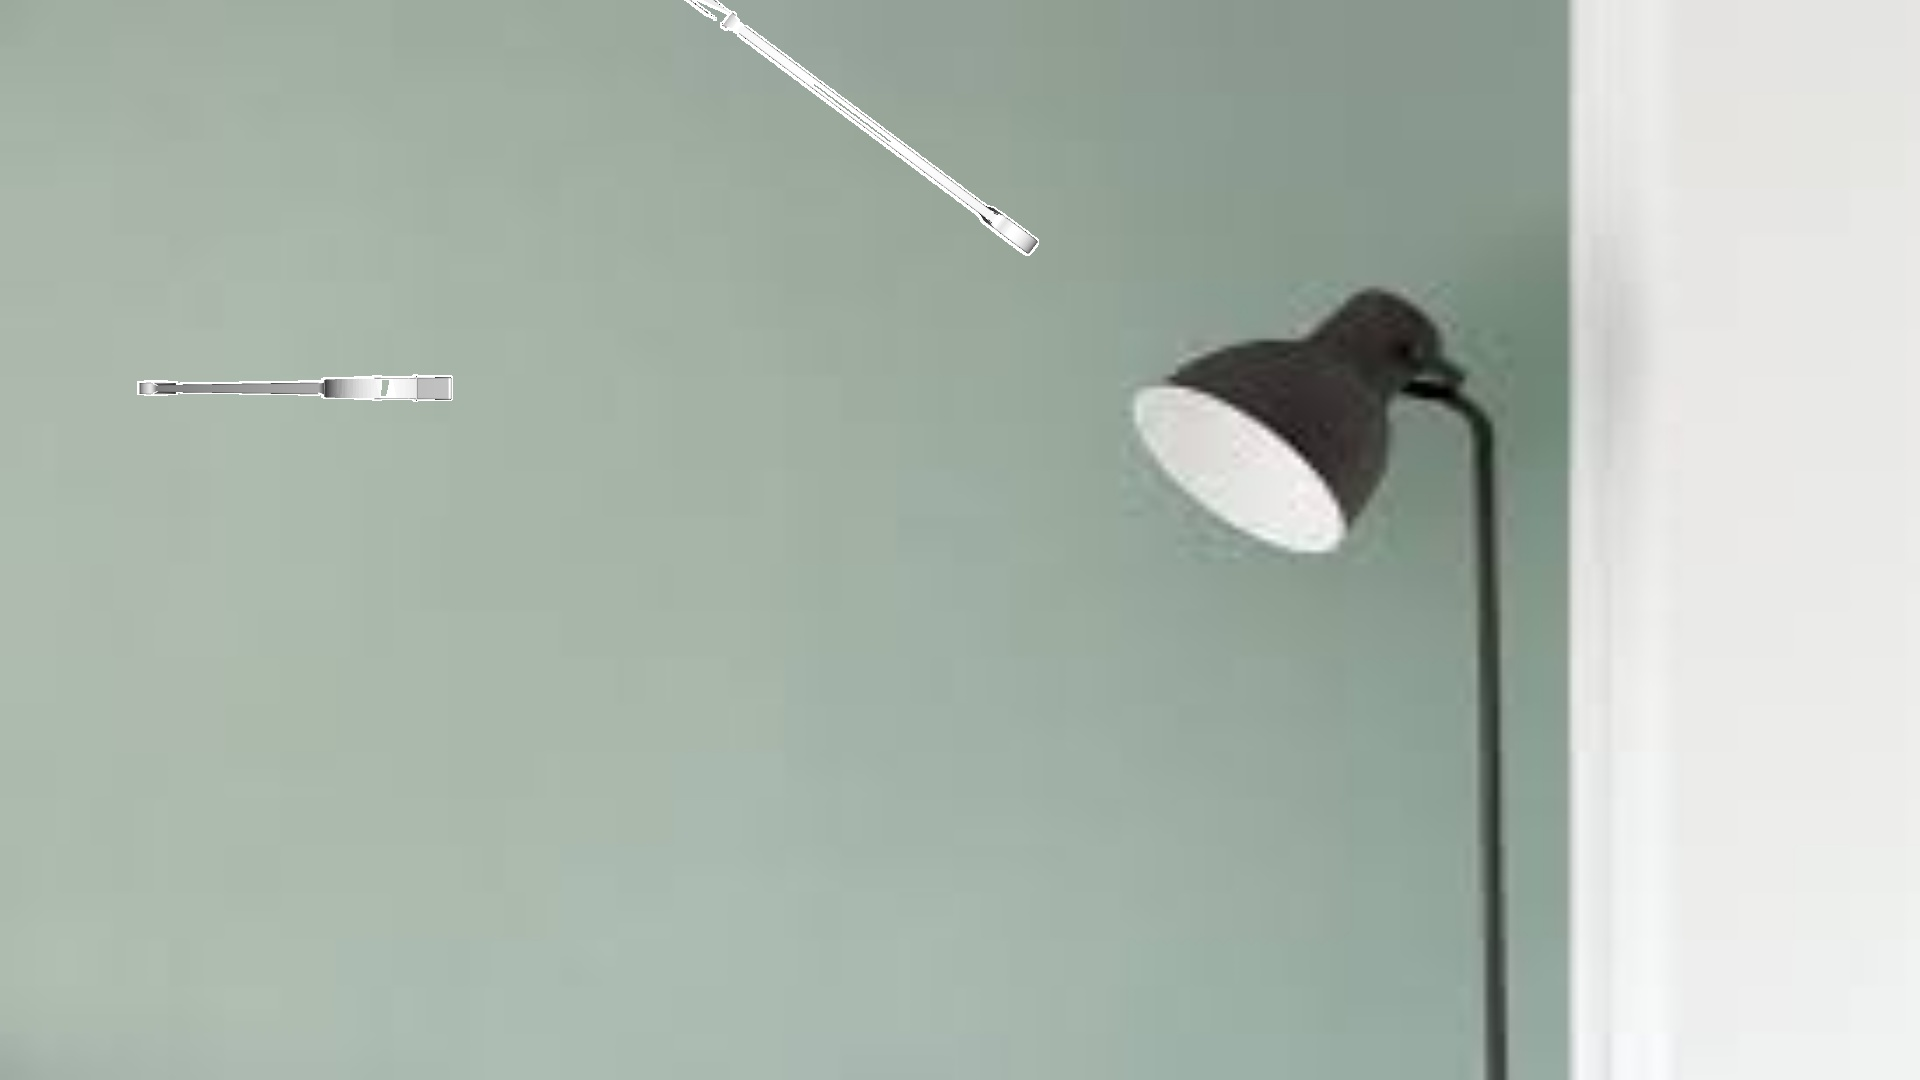Mixed Key: (684, 0, 1038, 255), (137, 375, 452, 401)
